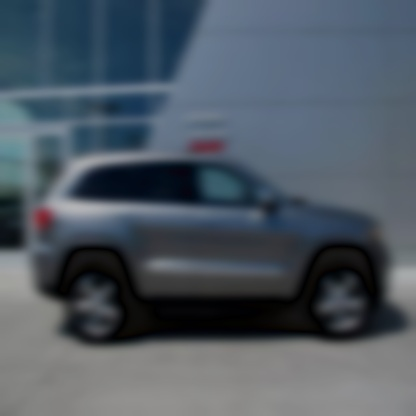Vehicle: (31, 151, 391, 349)
